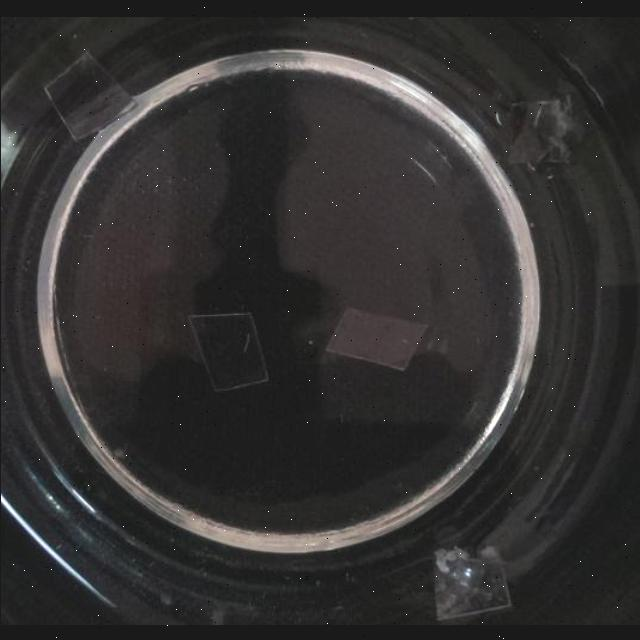Film: (41, 47, 138, 141), (322, 303, 430, 371), (188, 311, 270, 393), (431, 544, 512, 620), (501, 91, 582, 167)
